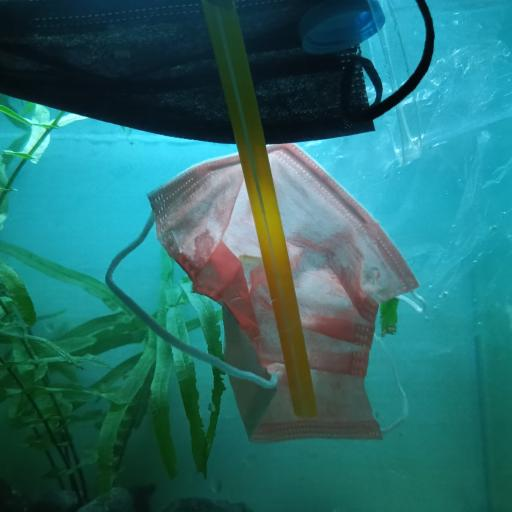bottle_cap: (299, 0, 386, 55)
mask: (106, 143, 428, 441), (0, 0, 438, 146)
plastic_bag: (319, 0, 512, 356)
plastic_straw: (204, 0, 318, 422), (369, 0, 424, 163)
